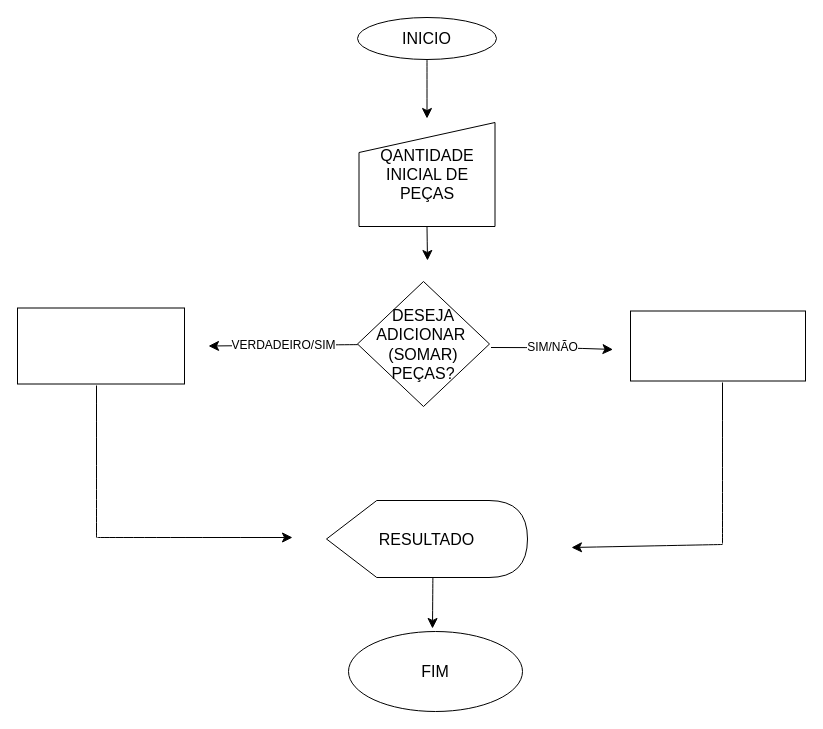
Image size: 823x729. Some labels were removed from this diagram. Here are the shapes that lost their labels. From the top down, the box of each, then its label:
(16, 307, 184, 384): SOMAR A QTD INICIAL COM A INFORMADA
(630, 310, 806, 381): SUBTRAIR A QTD INICIAL COM A INFORMADA
